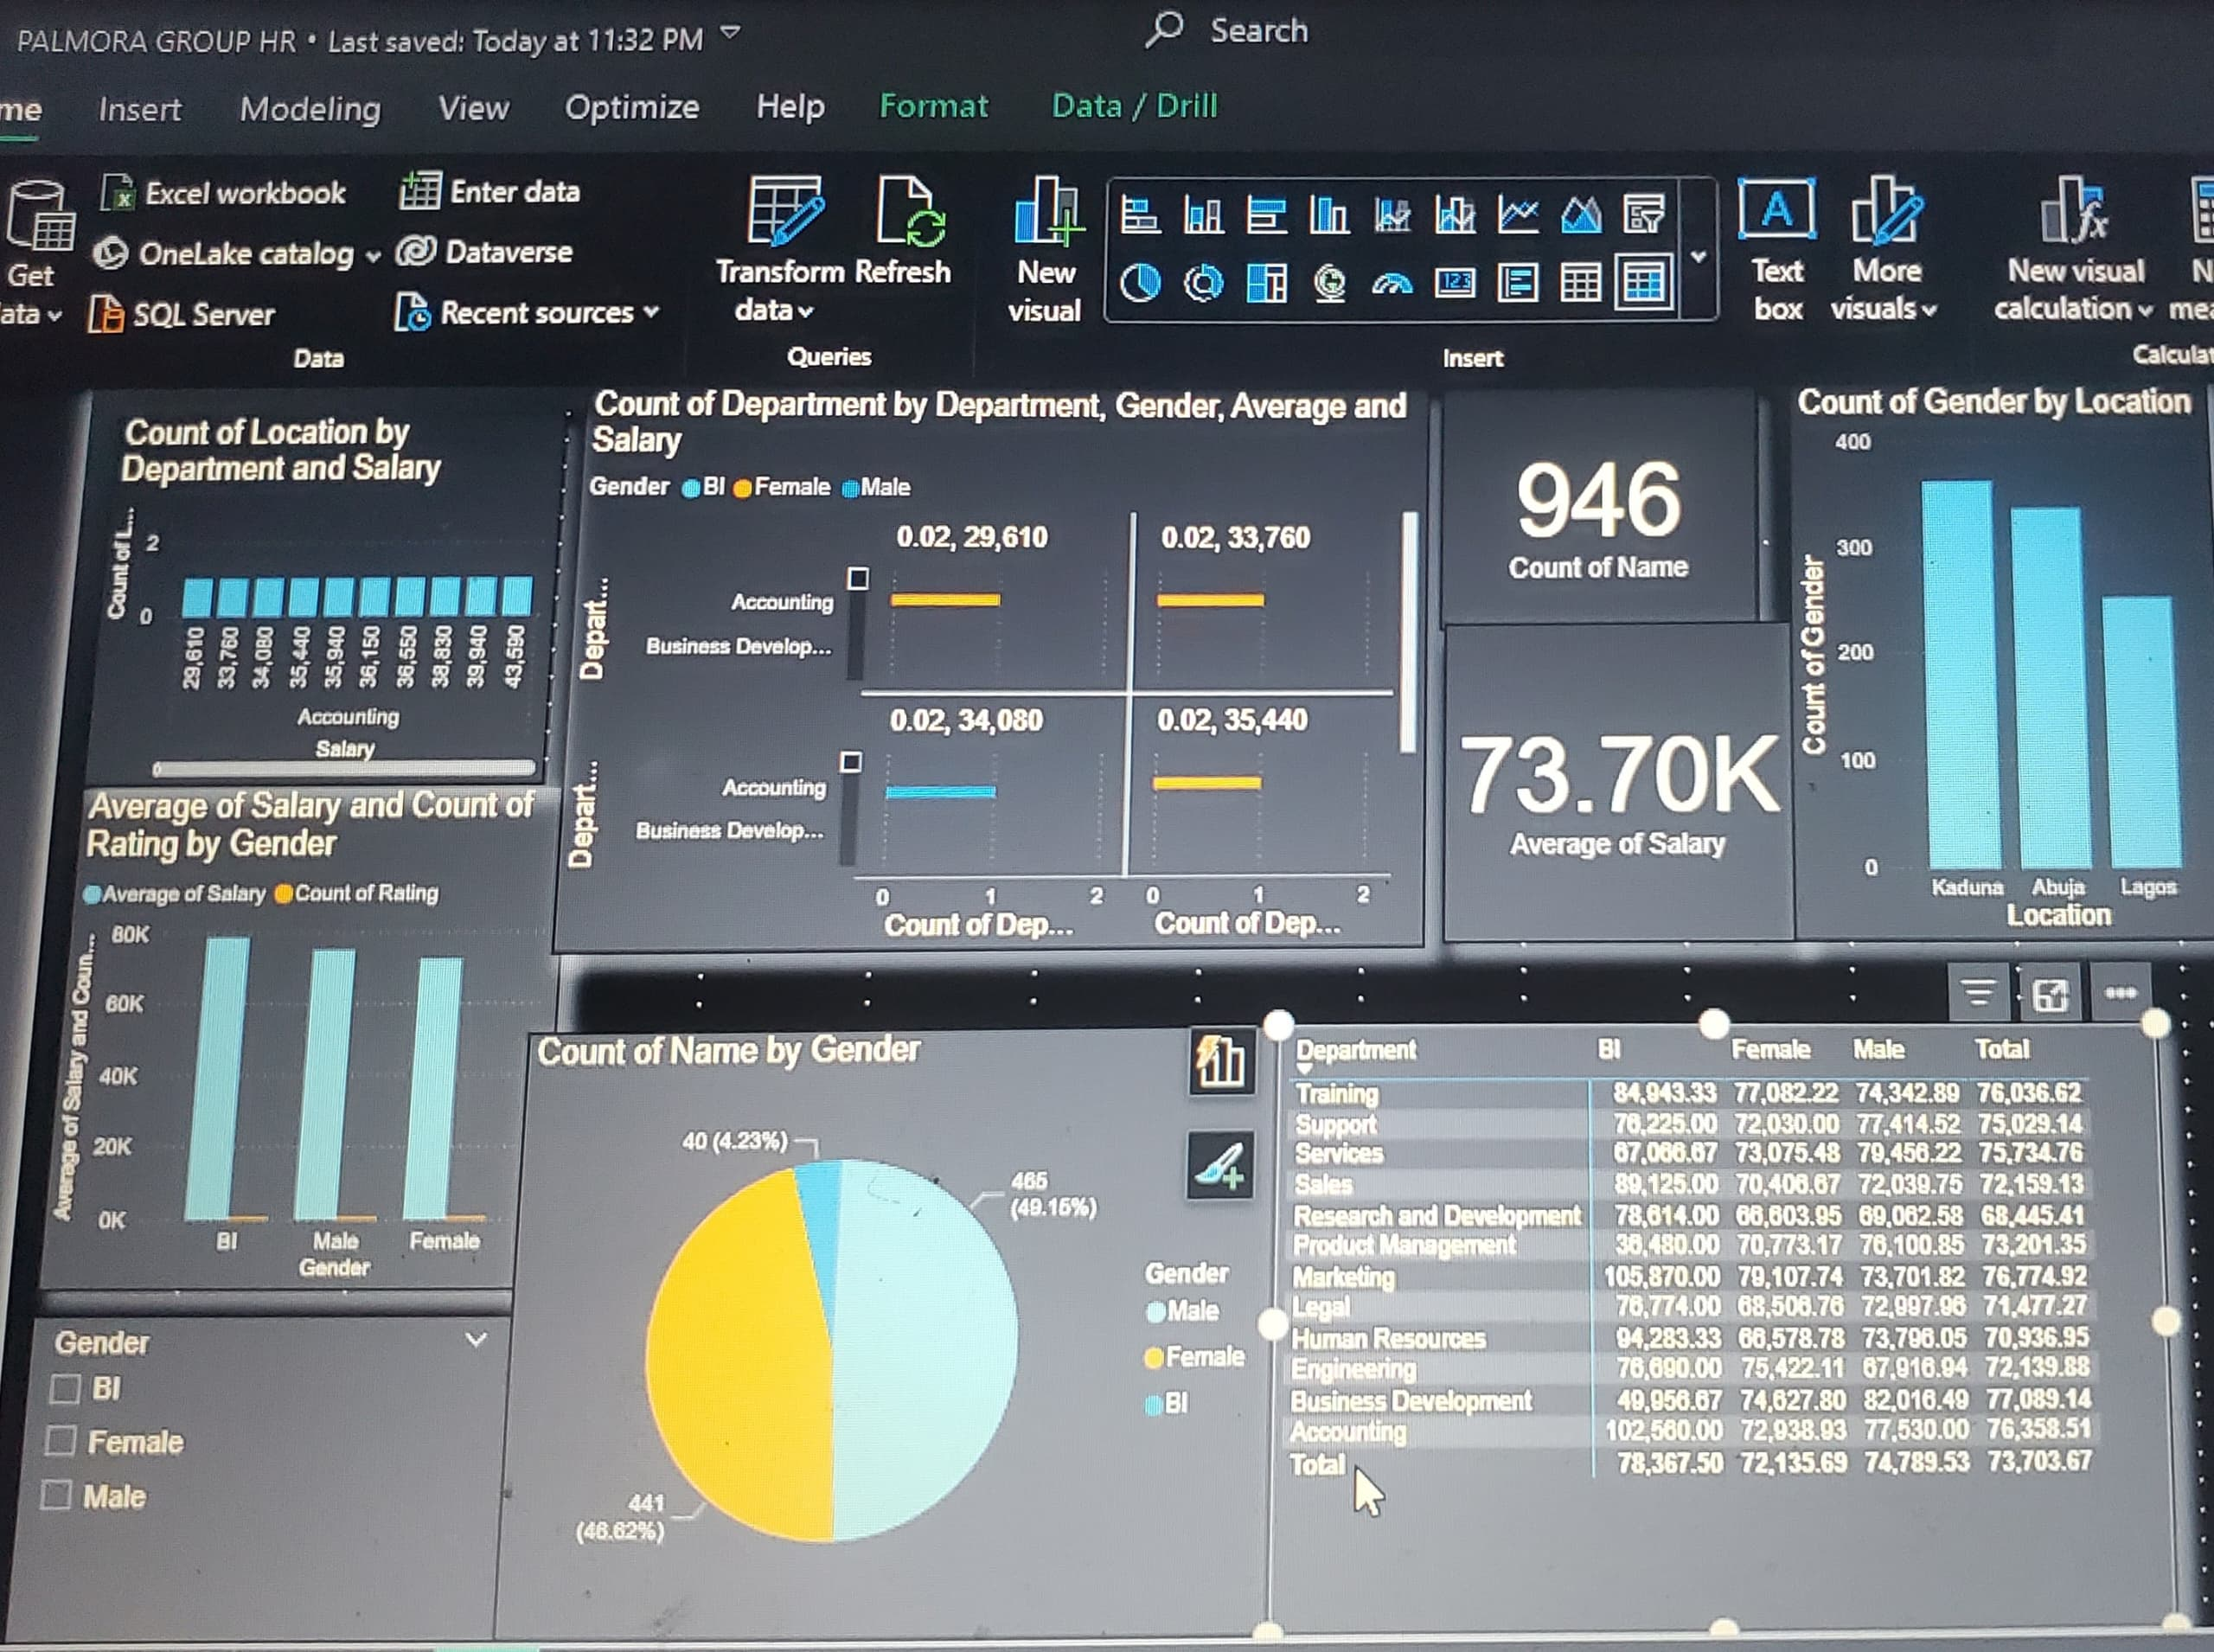

The dashboard page shown, as its layout file describes it:
{"tool":"powerbi","page":{"name":"Page 1","canvas":[1280,720],"ordinal":0},"visuals":[{"type":"clusteredColumnChart","fields":{"Category":["Palmoria Group emp-data.Gender"],"Y":["Palmoria Group emp-data.Salary","Palmoria Group emp-data.Rating"]},"box":[16,240,288,288],"z":1000},{"type":"clusteredBarChart","fields":{"Series":["Palmoria Group emp-data.Gender"],"Category":["Palmoria Group emp-data.Department"],"Y":["Palmoria Group emp-data.Department"],"Rows":["bonus mapping.Average","Palmoria Group emp-data.Salary"]},"box":[298.8,0,507.9,339.1],"z":2000},{"type":"pieChart","fields":{"Category":["Palmoria Group emp-data.Gender"],"Y":["Palmoria Group emp-data.Name"]},"box":[288,384,432,336],"z":3000},{"type":"pivotTable","fields":{"Rows":["Palmoria Group emp-data.Department"],"Columns":["Palmoria Group emp-data.Gender"],"Values":["Palmoria Group emp-data.Salary"]},"box":[720,384,512,336],"z":4000},{"type":"card","fields":{"Values":["Palmoria Group emp-data.Name"]},"box":[814.1,0,191.2,149.4],"z":5000},{"type":"card","fields":{"Values":["Palmoria Group emp-data.Salary"]},"box":[816,144,208,192],"z":6000},{"type":"slicer","fields":{"Values":["Palmoria Group emp-data.Gender"]},"box":[16,544,272,176],"z":8000},{"type":"columnChart","fields":{"Category":["Palmoria Group emp-data.Location"],"Y":["Palmoria Group emp-data.Gender"]},"box":[1024,0,256,336],"z":8001},{"type":"clusteredColumnChart","fields":{"Category":["Palmoria Group emp-data.Department","Palmoria Group emp-data.Salary"],"Y":["Palmoria Group emp-data.Location"]},"box":[16,16,272,224],"z":8002}]}

Visuals, with their boxes on the page's 1280x720 design canvas (x1, y1, x2, y2). These are canvas units, not pixel positions in the 2214x1652 screenshot, which may show the page scaled, cropped or inside an application window:
clusteredColumnChart - Palmoria Group emp-data.Gender x Palmoria Group emp-data.Salary: crop(16, 240, 304, 528)
clusteredBarChart - Palmoria Group emp-data.Gender x Palmoria Group emp-data.Department: crop(299, 0, 807, 339)
pieChart - Palmoria Group emp-data.Gender x Palmoria Group emp-data.Name: crop(288, 384, 720, 720)
pivotTable - Palmoria Group emp-data.Department x Palmoria Group emp-data.Gender: crop(720, 384, 1232, 720)
card - Palmoria Group emp-data.Name: crop(814, 0, 1005, 149)
card - Palmoria Group emp-data.Salary: crop(816, 144, 1024, 336)
slicer - Palmoria Group emp-data.Gender: crop(16, 544, 288, 720)
columnChart - Palmoria Group emp-data.Location x Palmoria Group emp-data.Gender: crop(1024, 0, 1280, 336)
clusteredColumnChart - Palmoria Group emp-data.Department x Palmoria Group emp-data.Salary: crop(16, 16, 288, 240)
